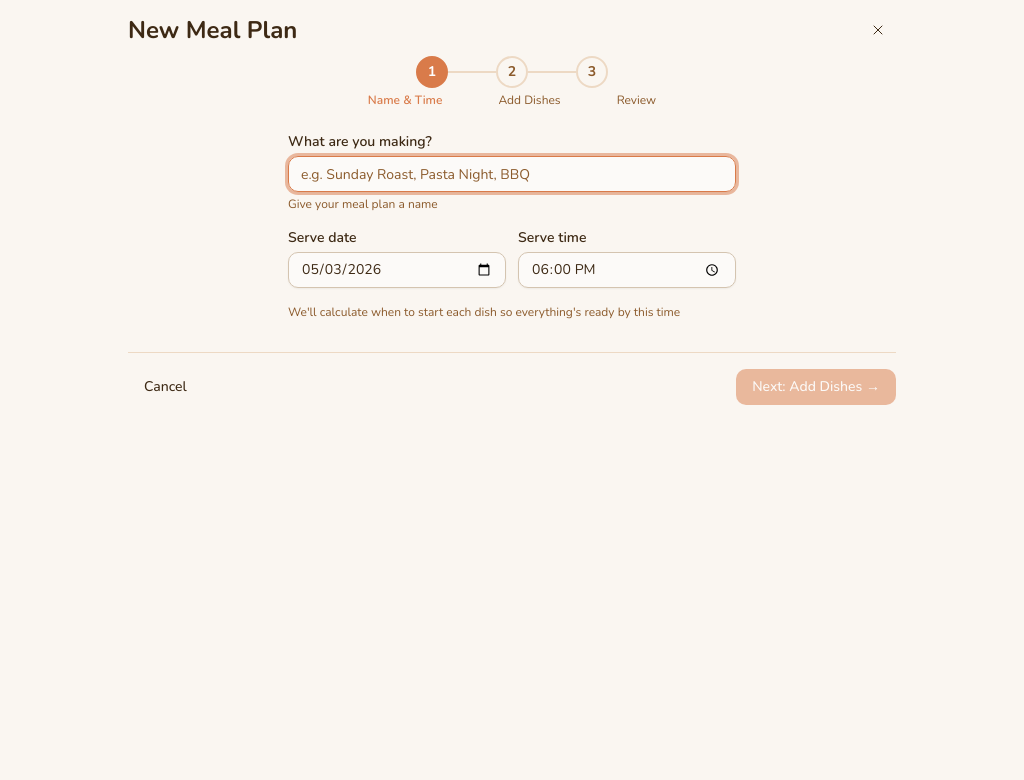
Scenario: CreatePlanWizard › Step 2 — Add Dishes › adds a custom item after expanding the form
The image size is (1024, 780).
Step 1. Type "Test Plan" into the field labelled "What are you making?" → (512, 174), box [288,156,736,192]
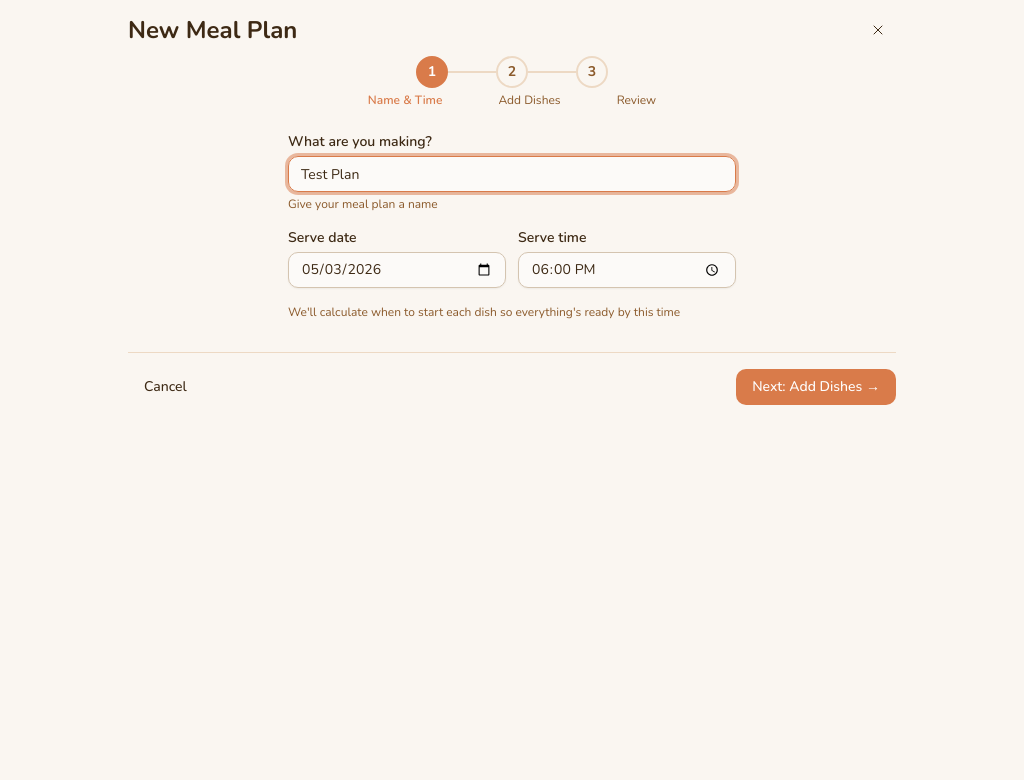
Step 2. Click the button "Next: Add Dishes →" → (816, 387), box [736,369,896,405]
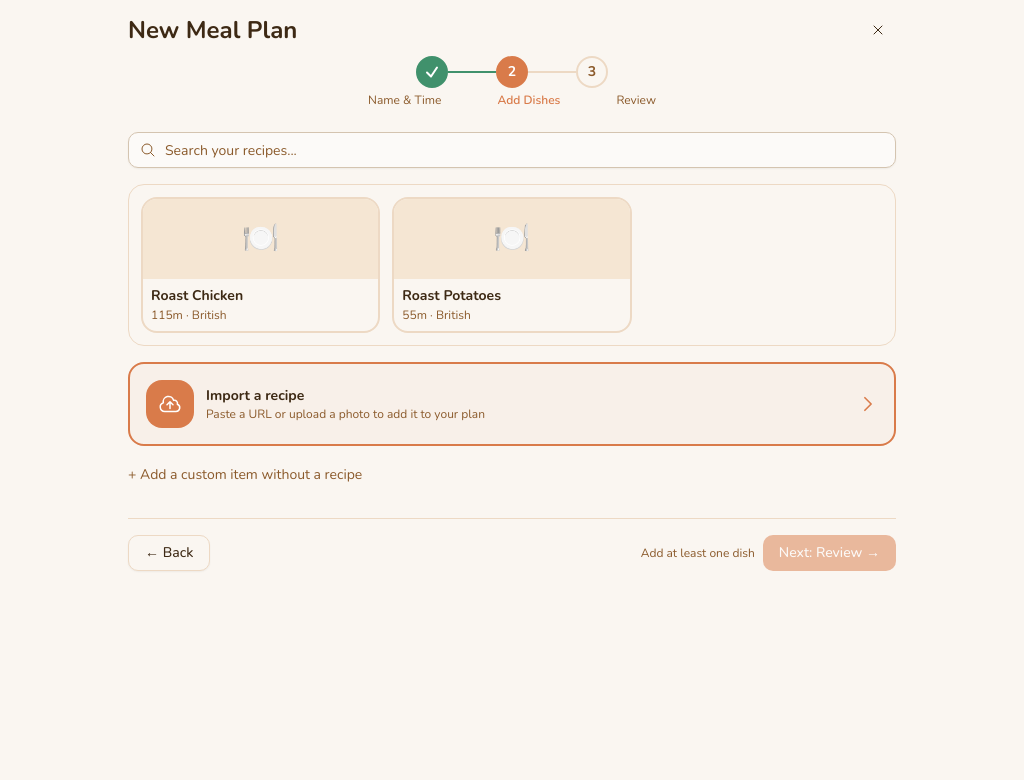
Step 3. Click the button "+ Add a custom item without a recipe" → (245, 474), box [128,464,362,484]
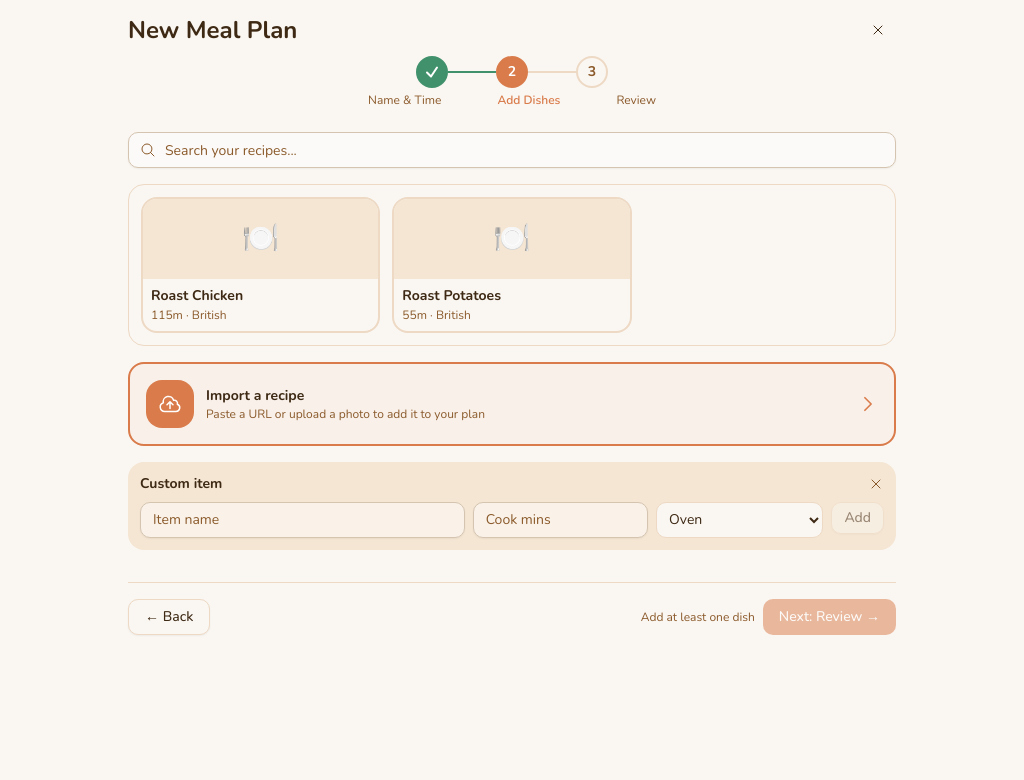
Step 4. Type "Frozen Peas" into the field named "Custom item name" → (302, 520), box [140,502,465,538]
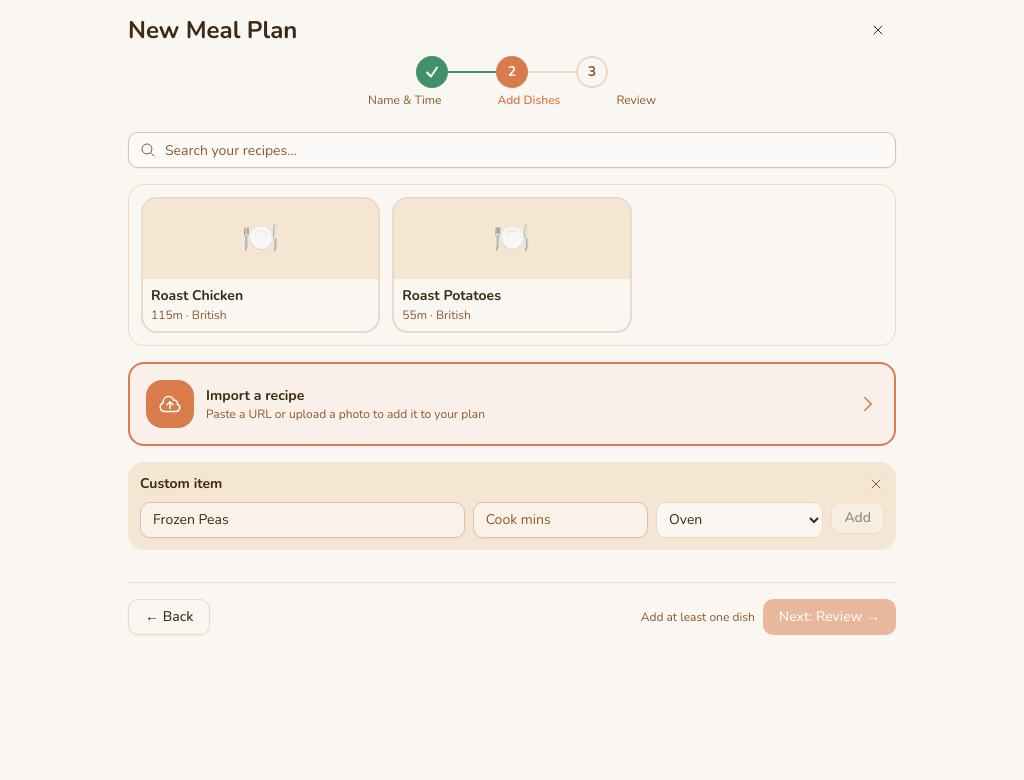
Step 5. Type "5" into the number field named "Cook time in minutes" → (560, 520), box [473,502,648,538]
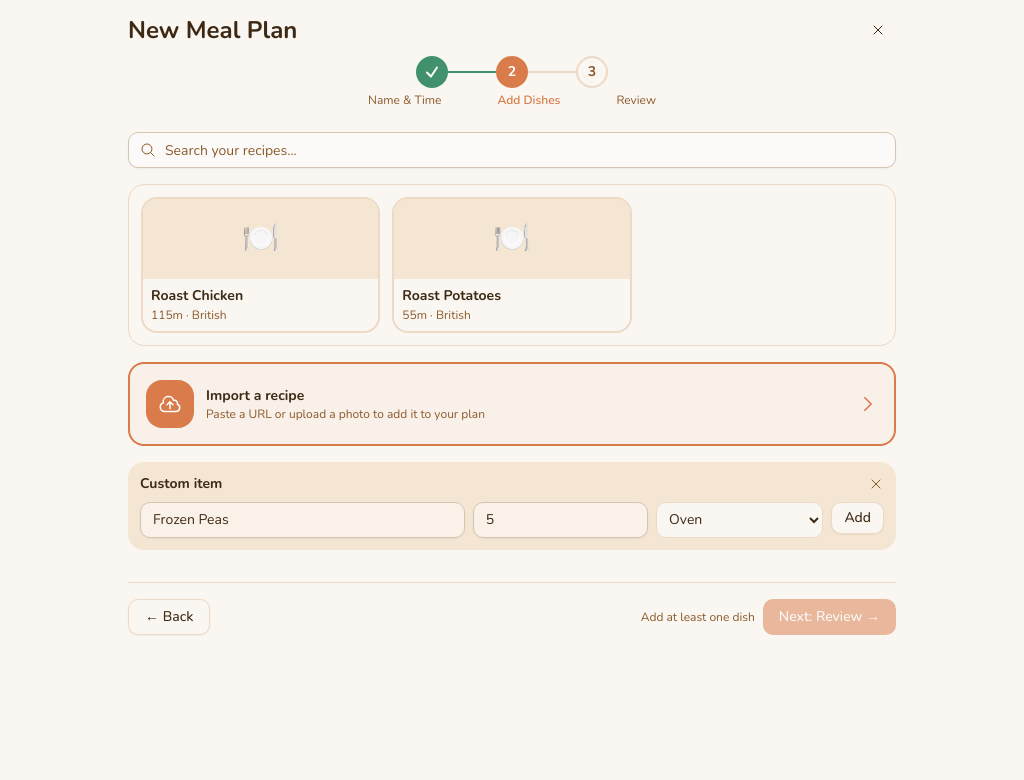
Step 6. Click the button "Add" → (858, 518), box [831,502,884,534]
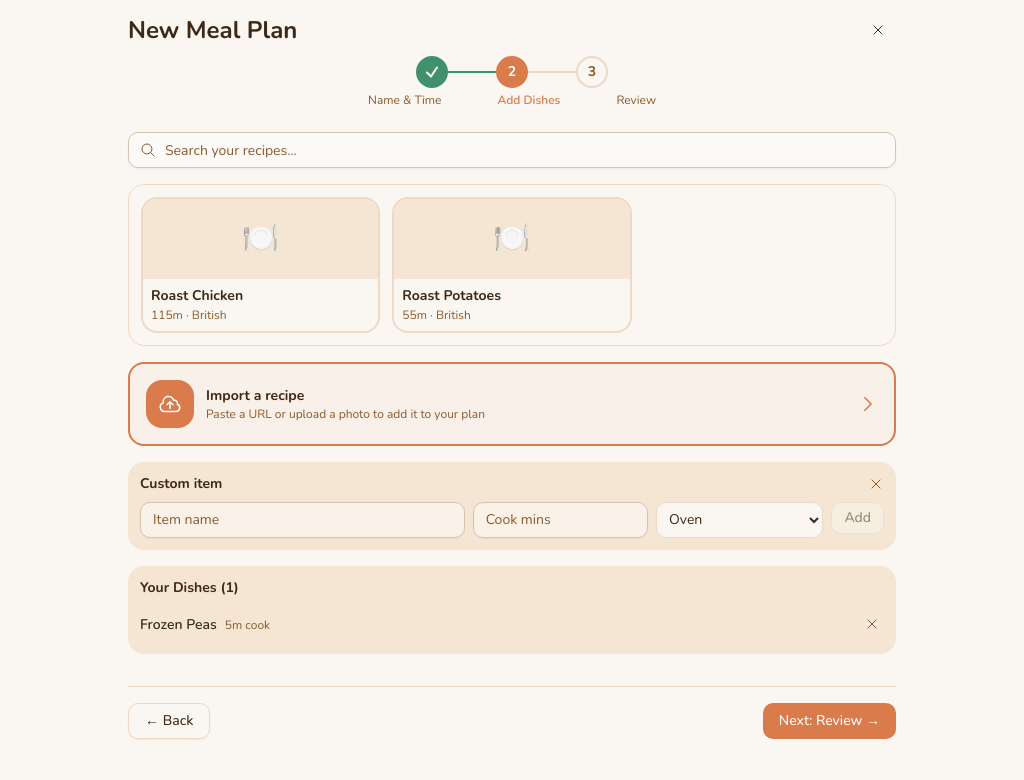
Check: the text "Your Dishes (1)" is shown, box [140,578,239,596]
Check: the text "Frozen Peas" is shown, box [140,614,217,634]
